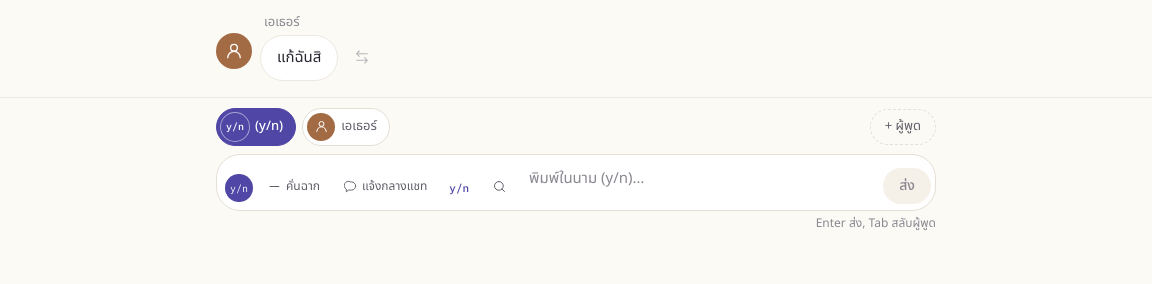
it: ChatComposer › opens a bubble for editing in place when clicked
Click the button "แก้ฉันสิ" at (299, 58), box [260,34,338,81]
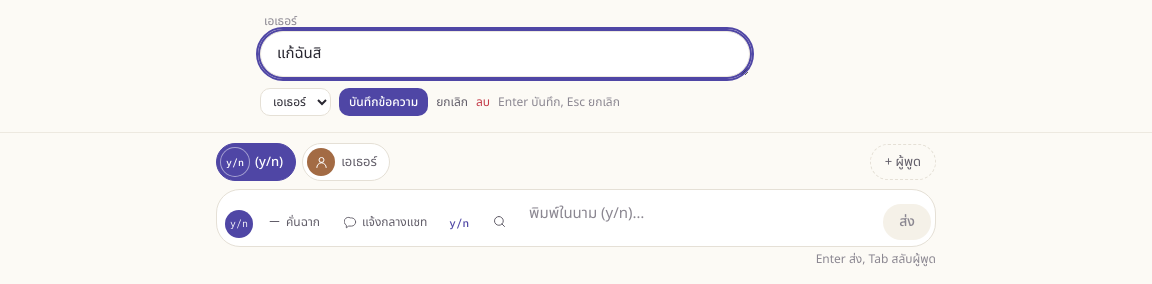
Expected: the text box named "แก้ไขข้อความ" holds "แก้ฉันสิ", [260,31,750,77]
Expected: the dropdown named "ผู้พูดของข้อความนี้" shows "เอเธอร์", [260,88,331,116]
